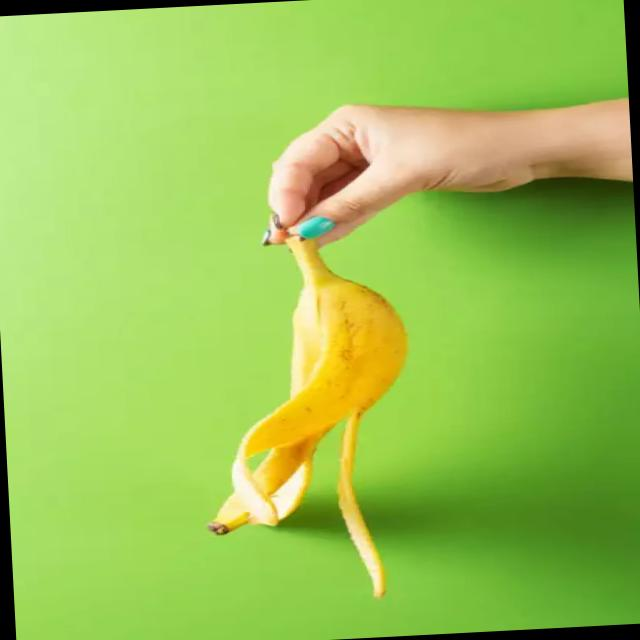banana_peel: (156, 228, 440, 605)
